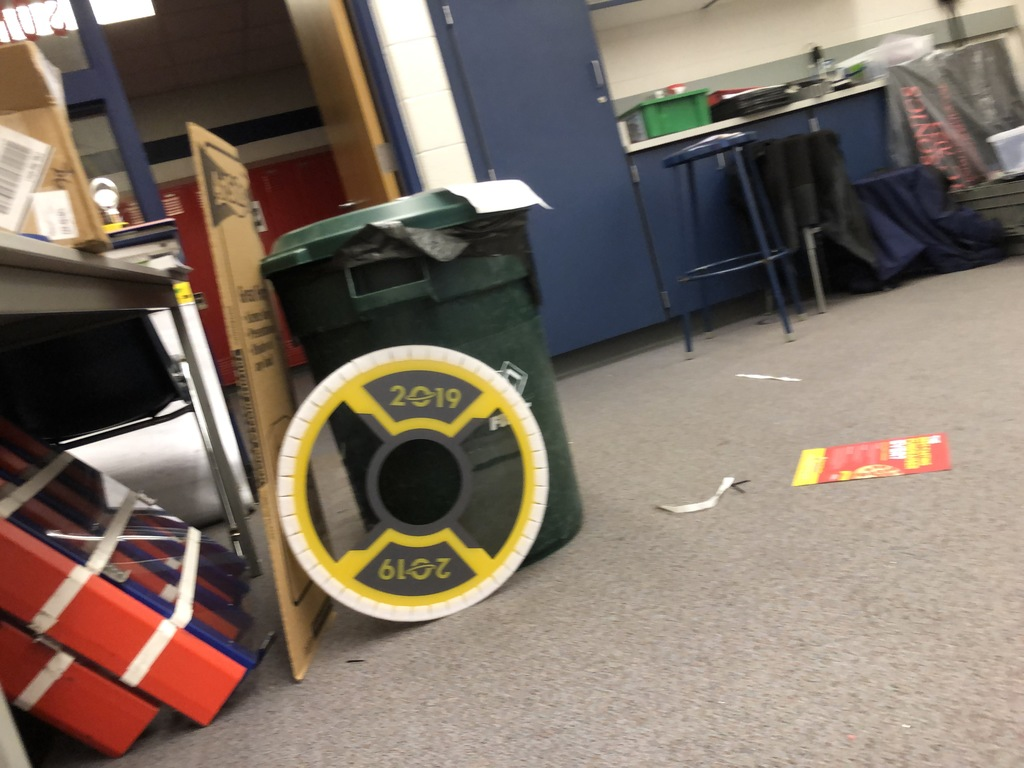hatch_panel: (277, 330, 552, 632)
